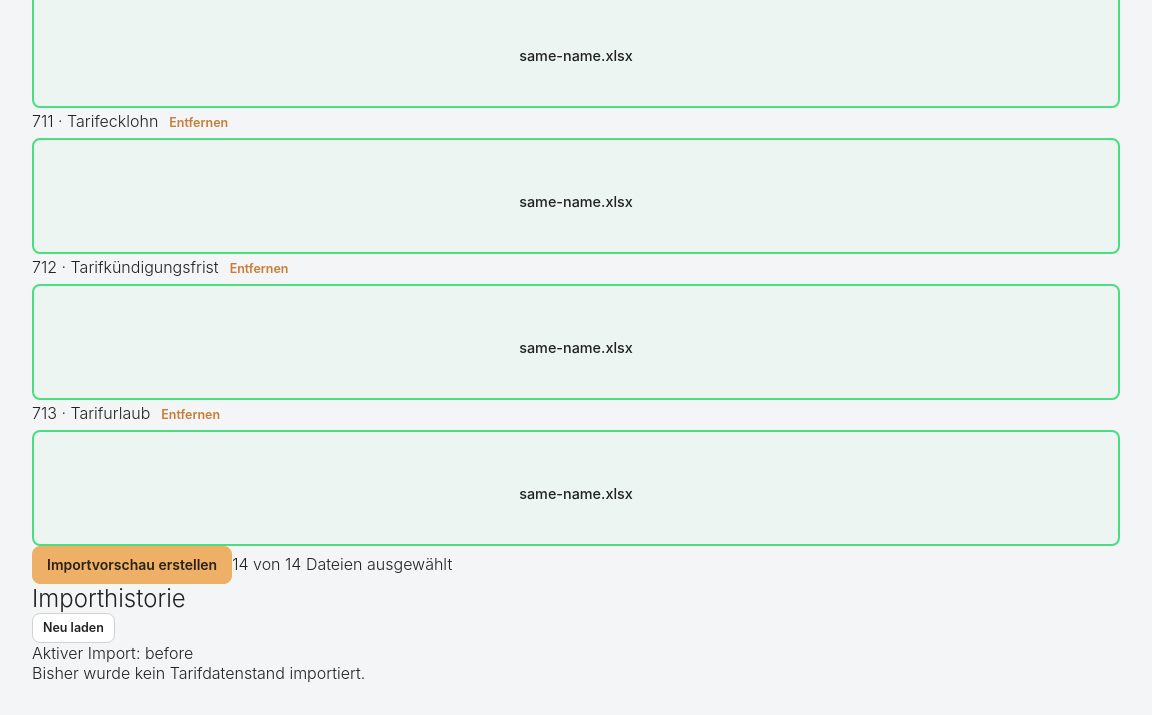
Scenario: TariffImport › keeps blocking errors and source context before a collapsed list of thousands of warnings
The width and height of the screenshot is (1152, 715).
(page scrolled)
Click the button "Importvorschau erstellen" at (132, 565), box [32,546,232,584]
(page scrolled)
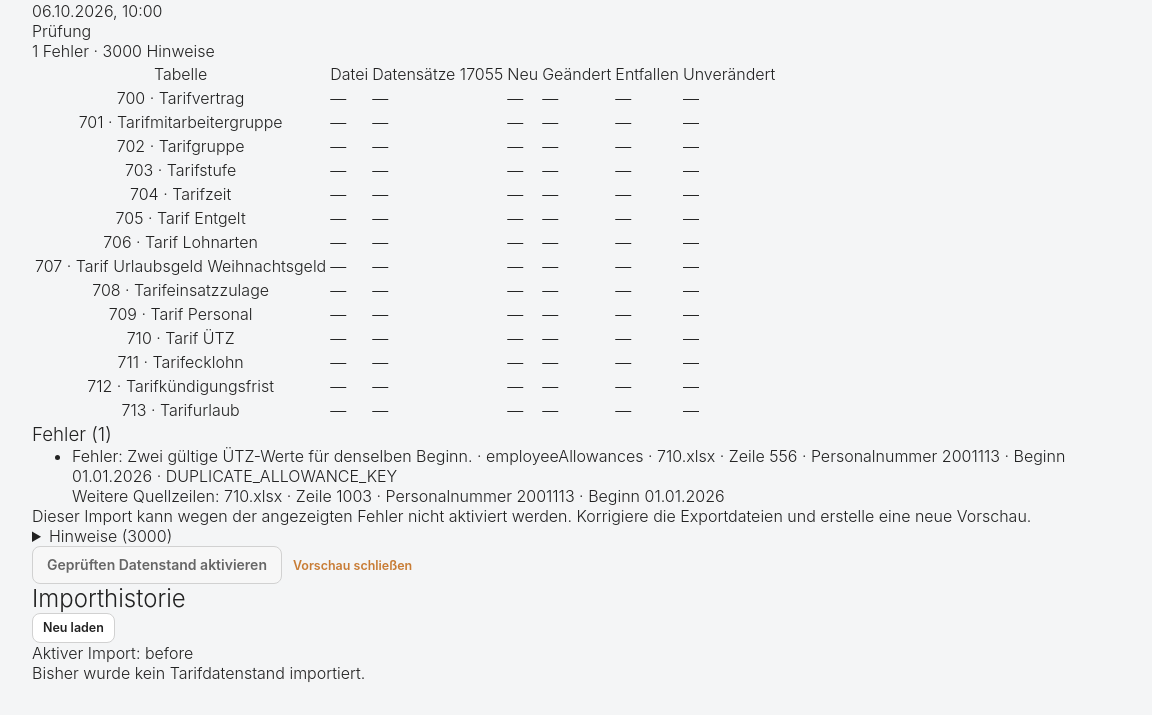
Check: the element named "Blockierende Importfehler" shows "DUPLICATE_ALLOWANCE_KEY", box [72,446,1065,486]
Check: the element named "Blockierende Importfehler" shows "Personalnummer 2001113", box [72,446,1065,486]
Check: the element named "Blockierende Importfehler" shows "Beginn 01.01.2026", box [72,446,1065,486]
